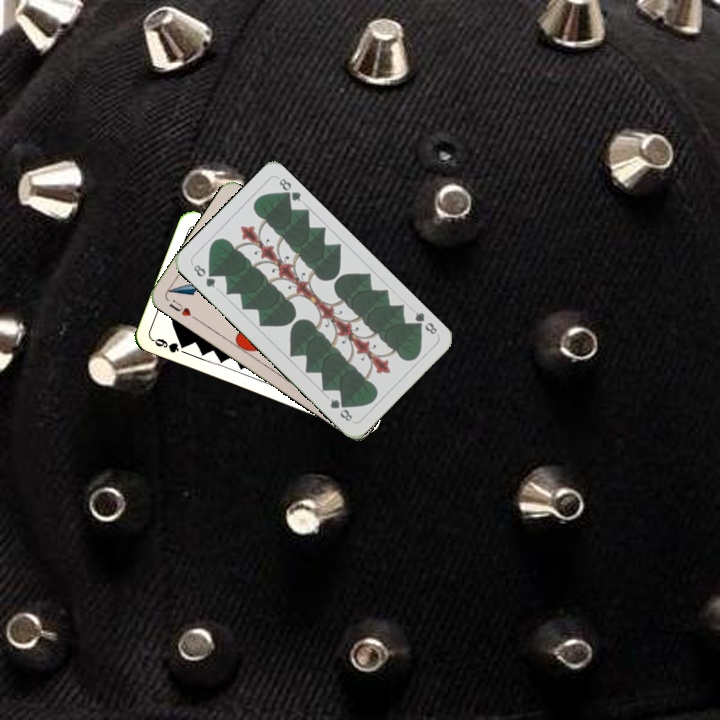G8: (409, 308, 440, 337), (189, 261, 218, 290)
G9: (148, 334, 190, 355)
HU: (165, 295, 199, 322)
